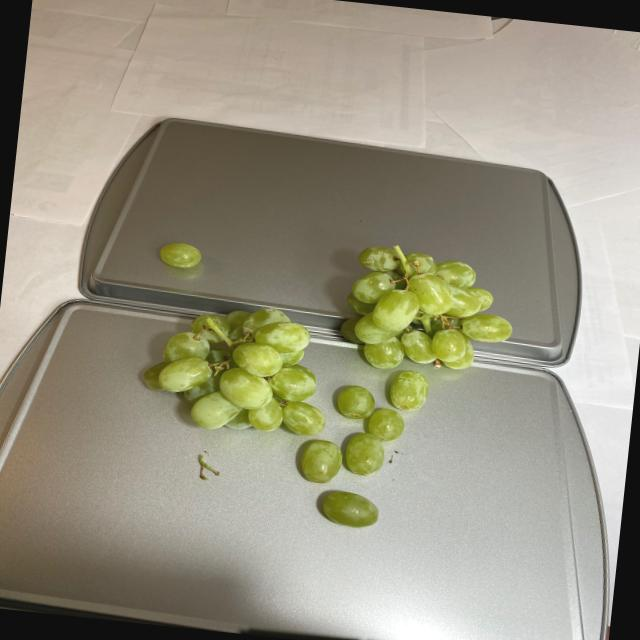grapes: (127, 220, 518, 546)
